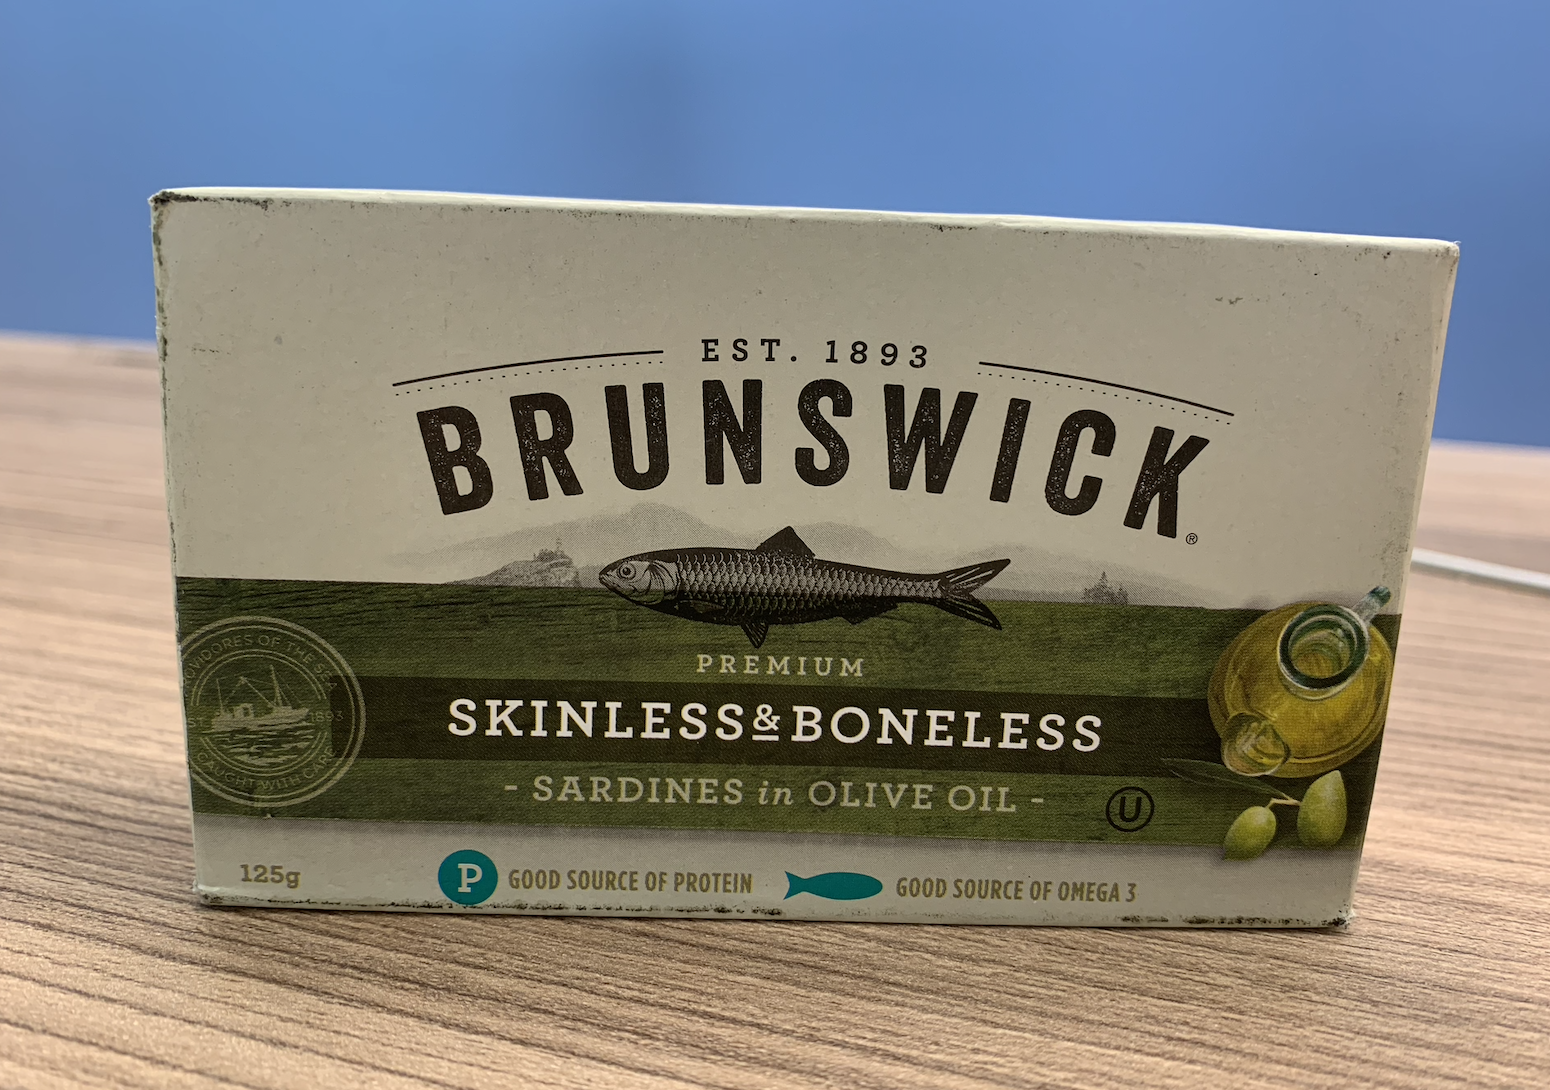sardines_150g: (201, 241, 1373, 908)
